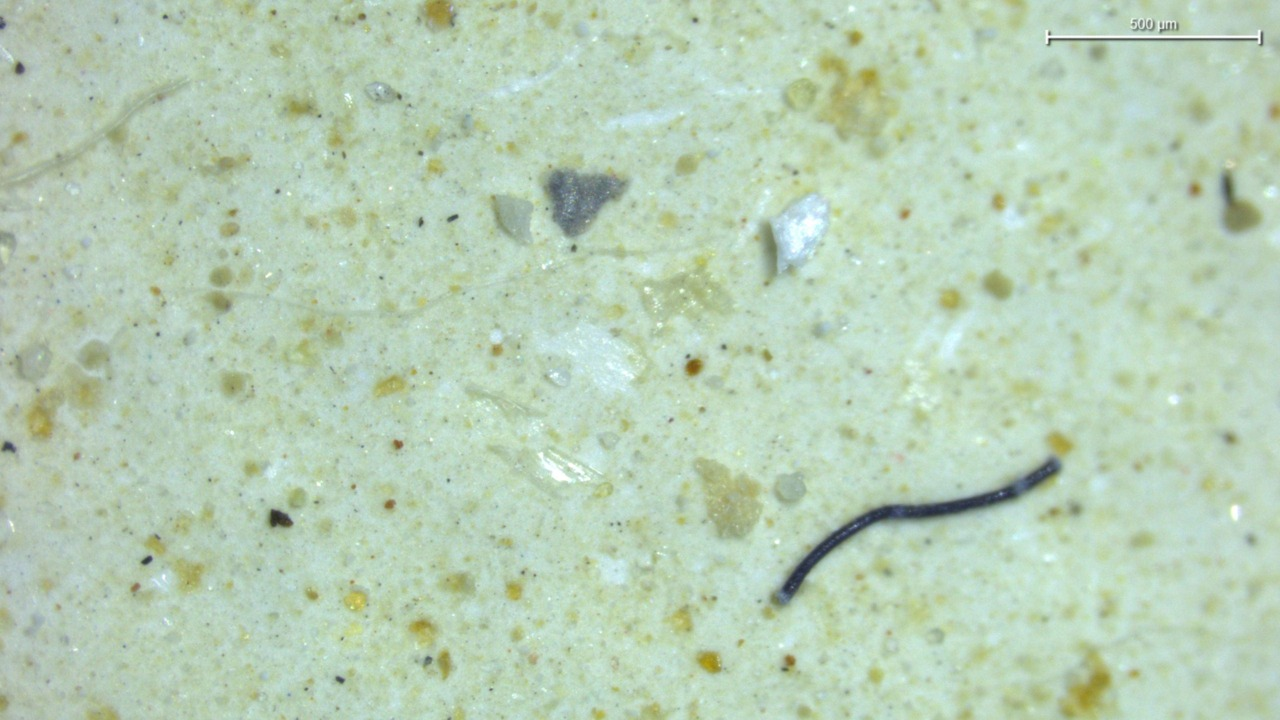microplastic_fragment: (771, 193, 829, 274), (492, 195, 533, 241), (774, 473, 806, 503)
